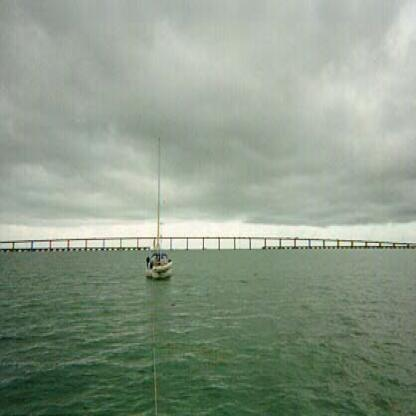boat: (143, 138, 172, 284)
